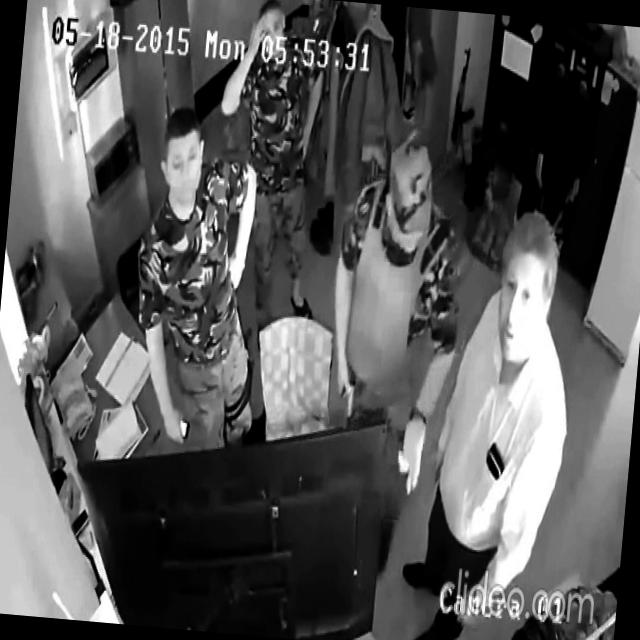gun: (444, 43, 482, 184), (340, 353, 358, 428)
person: (394, 199, 587, 640), (122, 102, 278, 456), (200, 0, 342, 327)
person with a gun: (318, 125, 476, 494)
